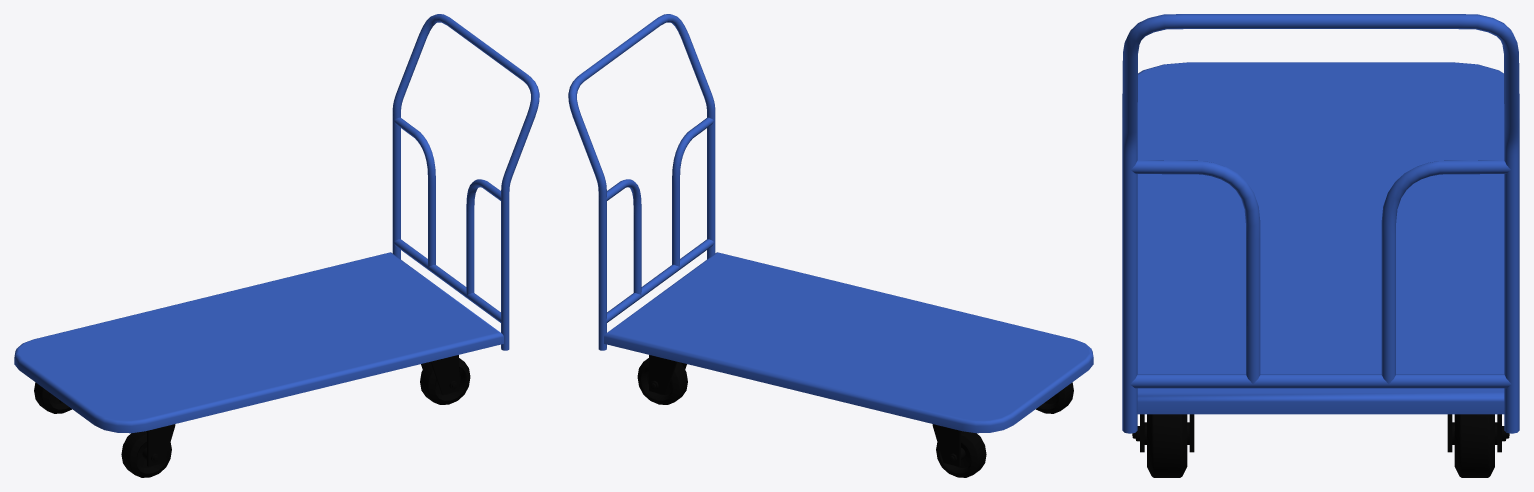
Rendered from Cart.fbx.
3 renders of one model, left to right at view 1: azimuth 30°, elevation 25°; view 2: azimuth 150°, elevation 25°; view 3: azimuth 270°, elevation 25°, orthographic. The views are drawn at different scales.
Visible parts, largest first — view 1: Cart; view 2: Cart; view 3: Cart.
Boxes of the visible parts, x1=… form: Cart: x1=14, y1=14, x2=539, y2=477; Cart: x1=568, y1=14, x2=1093, y2=477; Cart: x1=1122, y1=14, x2=1519, y2=477.
Bounding box in the file's own units: 2.22 × 1.48 × 1.
